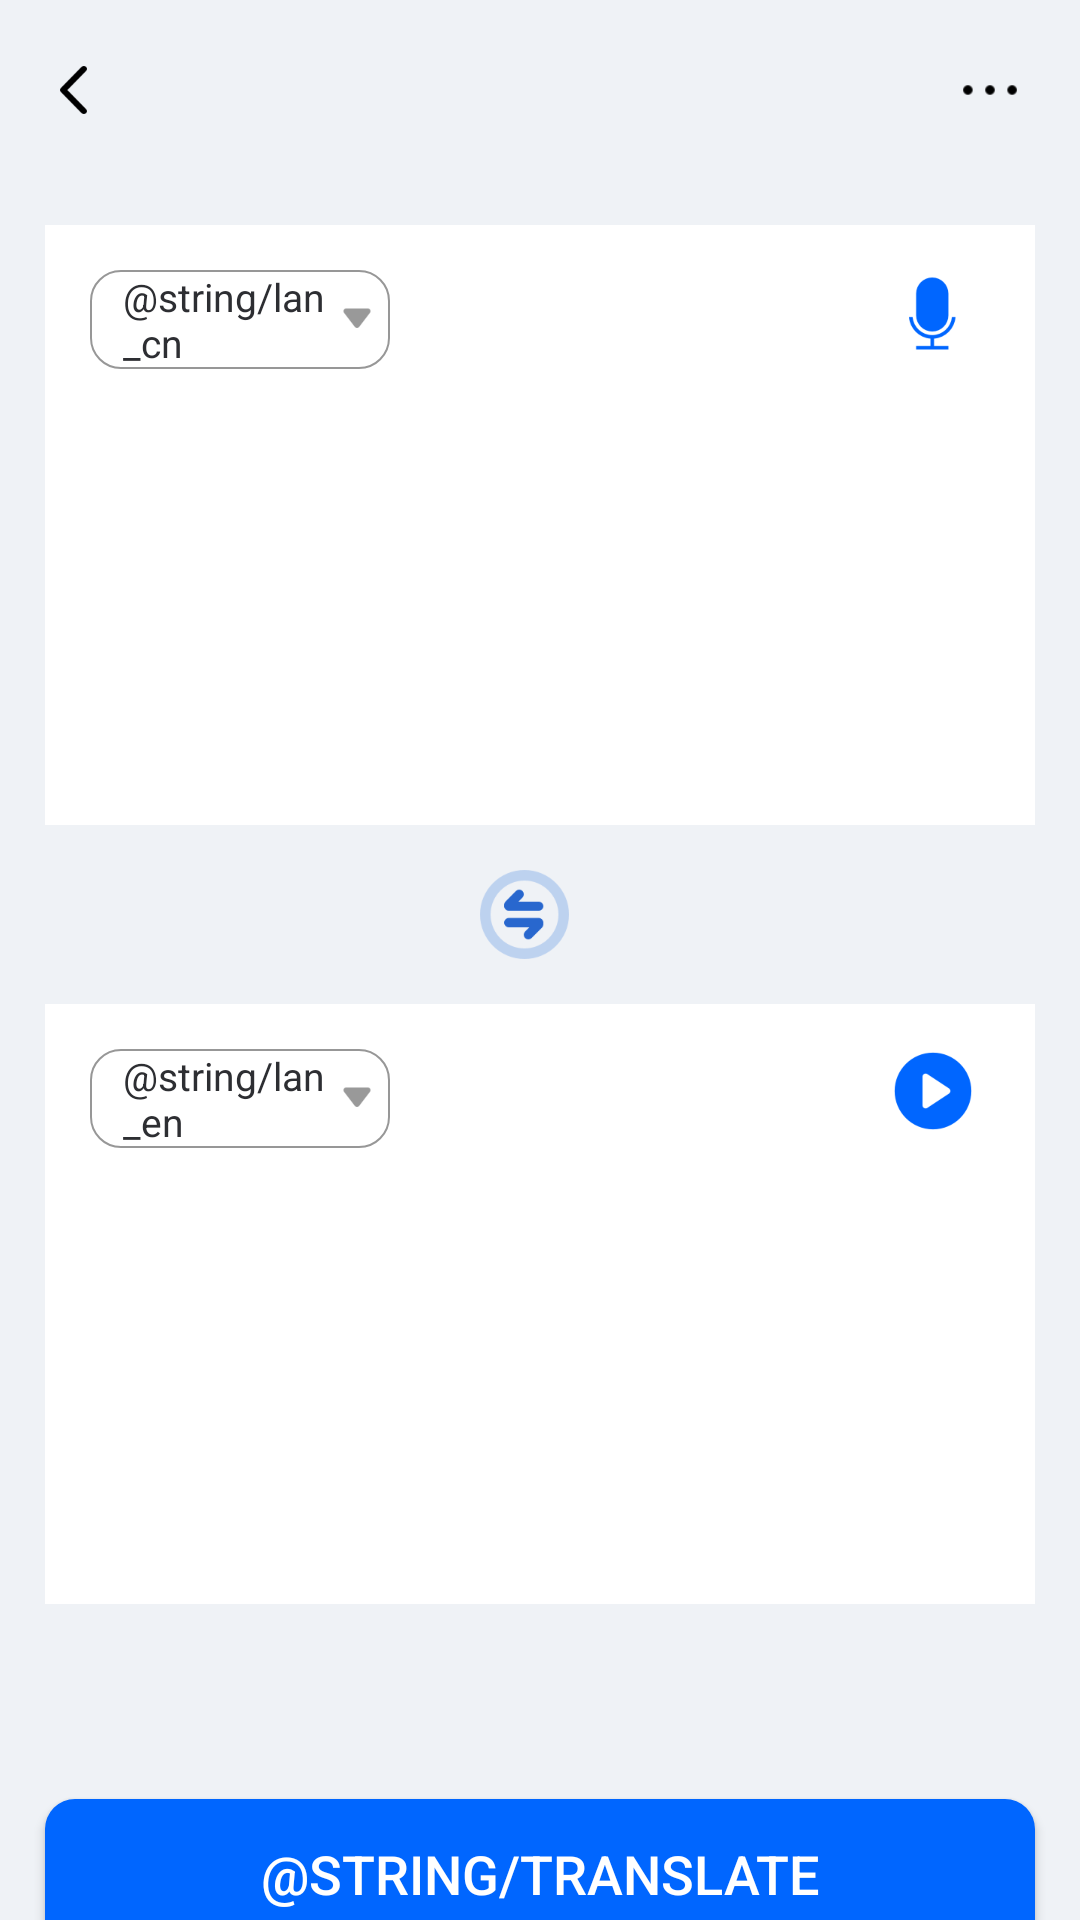

Icons on this 1080px x 1920px Android screen, each with the point to tap as (x,y):
audio play: (933,1091)
back: (73,90)
exchange: (524,914)
expand: (357,318), (357,1097)
more: (990,90)
trans mic: (932,313)
